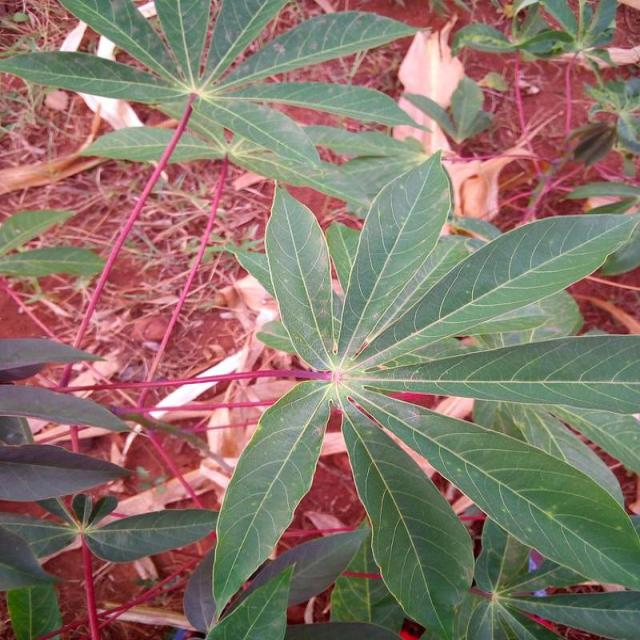cassava leaf: (204, 148, 638, 637)
